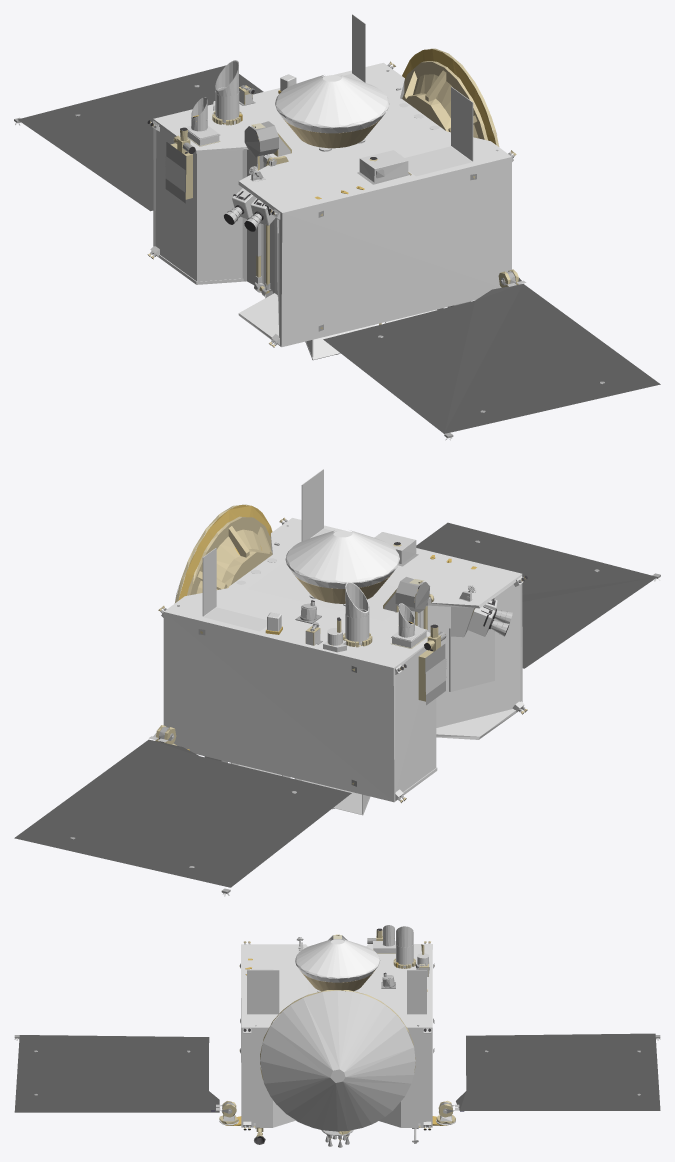
Rendered from osiris-rex.glb.
The picture shows the model from 3 angles, top to bottom: view 1: azimuth 30°, elevation 25°; view 2: azimuth 150°, elevation 25°; view 3: azimuth 270°, elevation 25°; orthographic projection. The views are drawn at different scales.
Parts seen in each view (by area): view 1: Main Layer; view 2: Main Layer; view 3: Main Layer.
Boxes of the visible parts, <box> form: Main Layer: <box>14,14,660,440</box>; Main Layer: <box>14,469,660,896</box>; Main Layer: <box>14,925,660,1147</box>.
Size of the model in its own units: 13.72 by 12 by 34.64.
